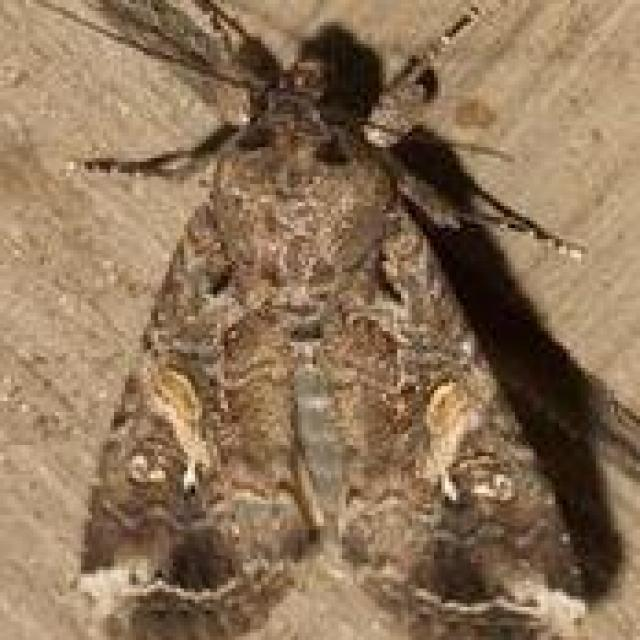BeetArmyWorm-Adult-: (60, 3, 596, 629)
